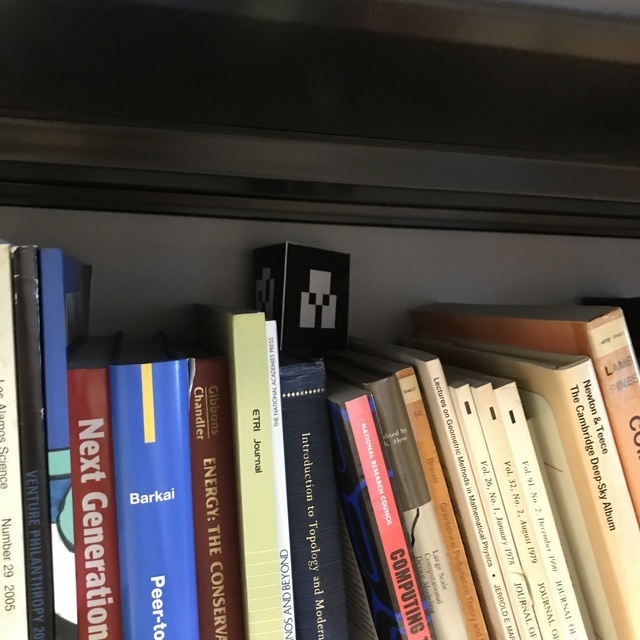ARTag: (250, 242, 352, 351)
